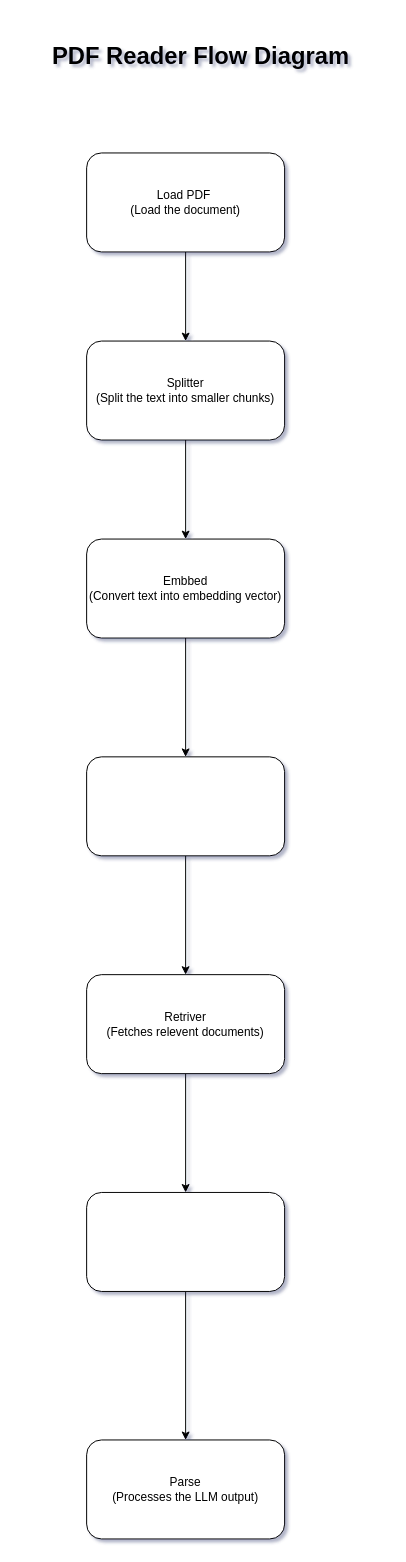
Image size: 406x1562. Some labels were removed from this diagram. Here are the shapes that lost their labels. From the top down, the centre of each, then its label:
At (185,806): "Vector (Store vector in FAISS)".
At (185,1241): "LLM ( It uses retrieved PDF chunks to answer.)".
